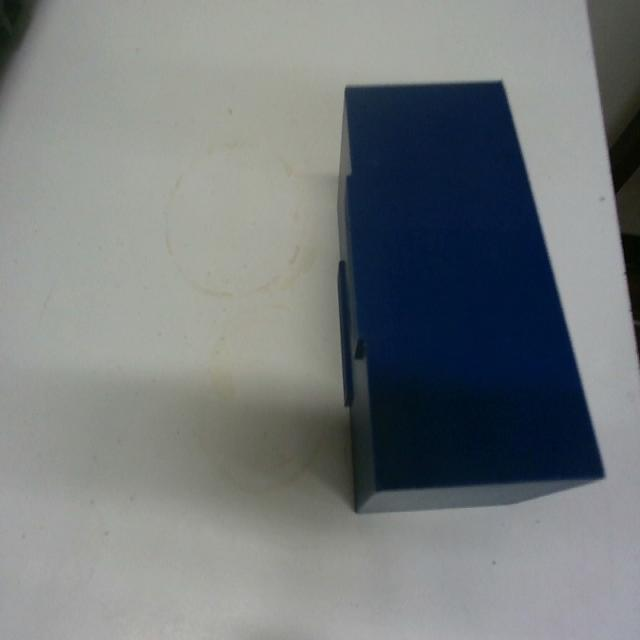Blue Cuboid: (333, 76, 606, 513)
